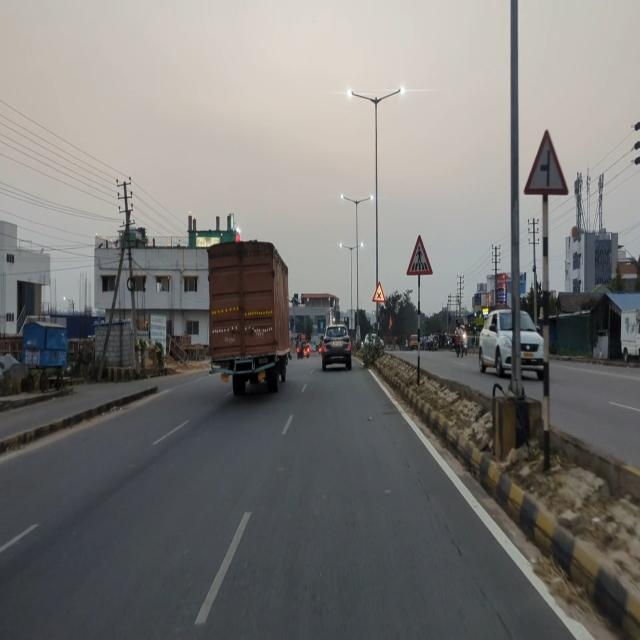bien_cam: (522, 127, 568, 198), (407, 234, 433, 281), (372, 280, 386, 304)
